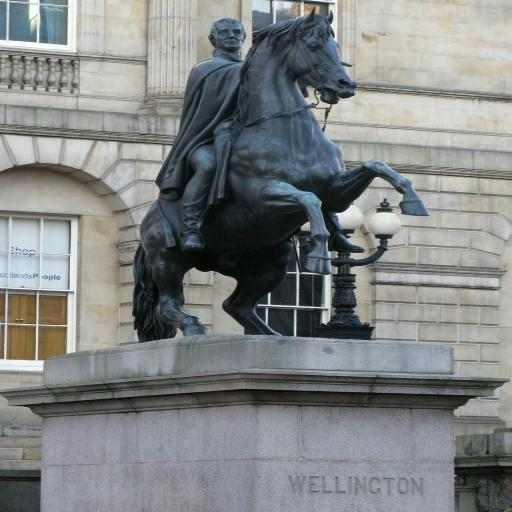horse: (132, 6, 432, 342)
